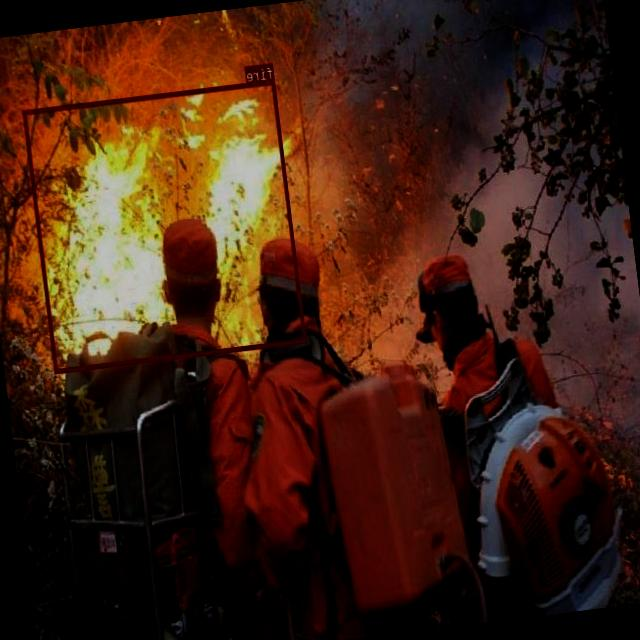fire: (22, 79, 308, 372)
